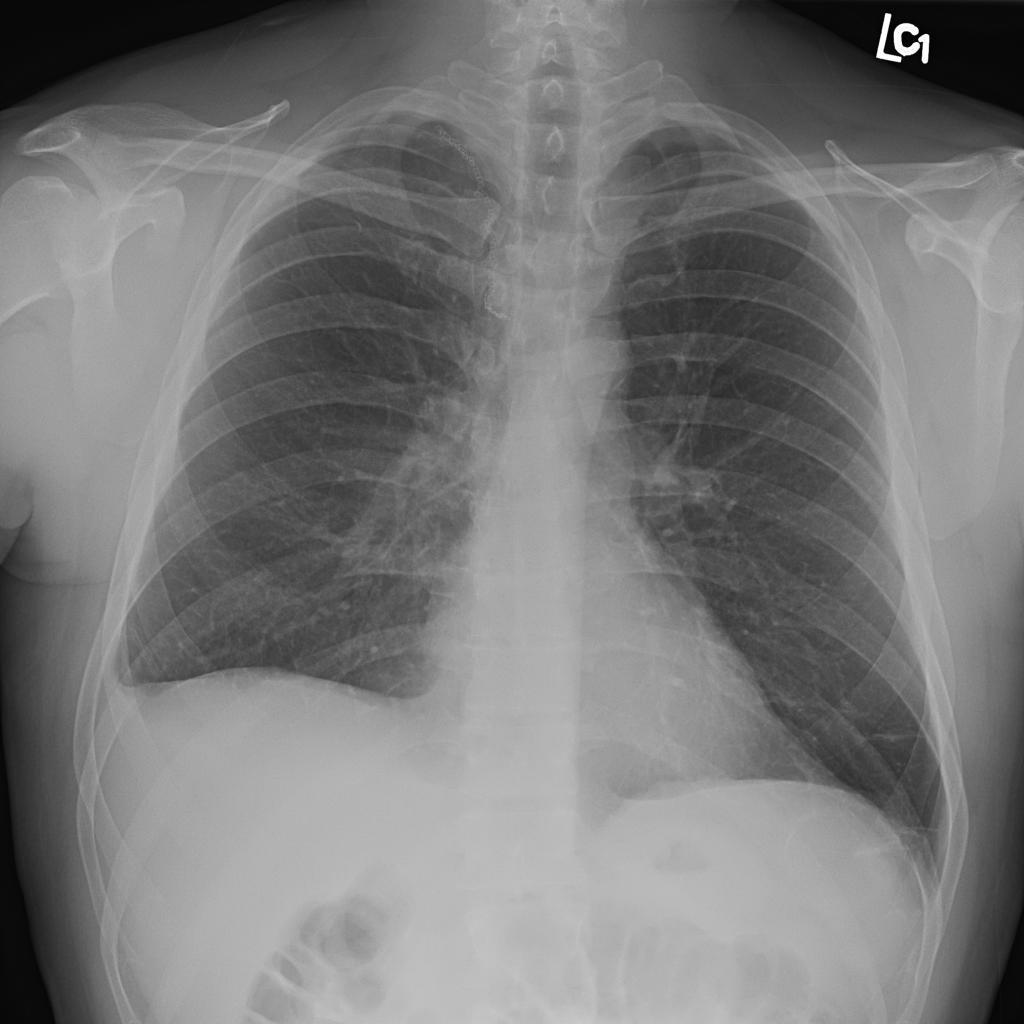Nodule: (455, 337, 493, 376), (355, 333, 392, 369)
